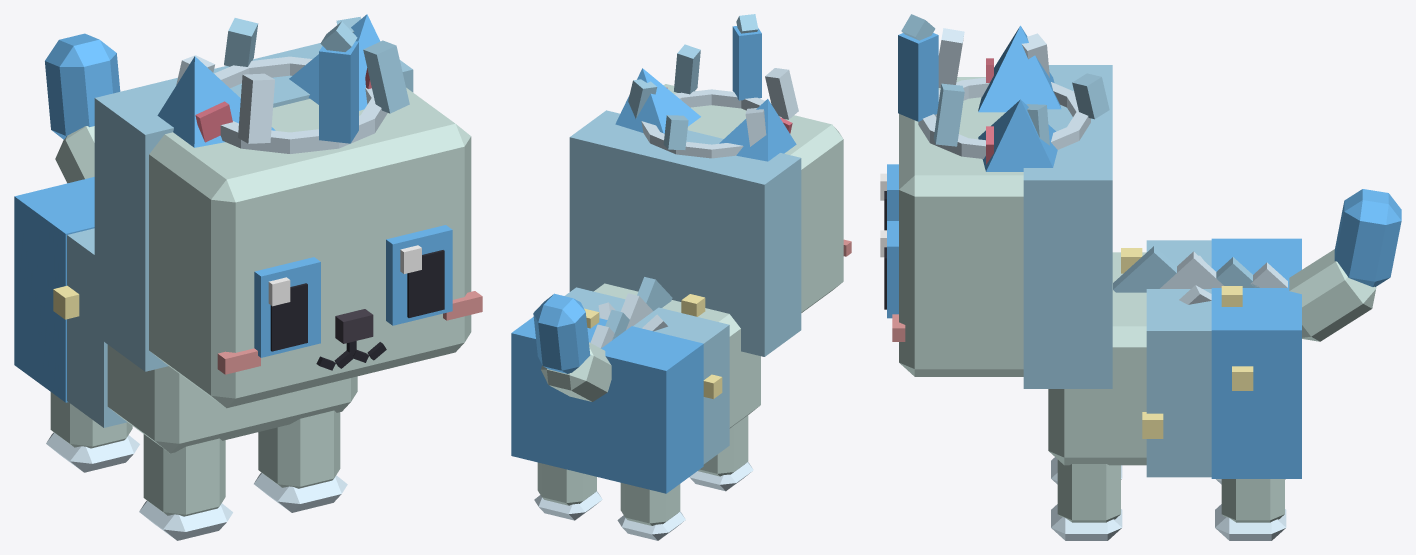
The model's file is CatCafe_Cat_Ice.fbx.
3 renders of one model, left to right at view 1: azimuth 30°, elevation 25°; view 2: azimuth 150°, elevation 25°; view 3: azimuth 270°, elevation 25°, orthographic. The views are drawn at different scales.
Parts seen in each view (by area): view 1: CatCafe_Cat_Ice_Head, CatCafe_Cat_Ice_Body, CatCafe_Cat_Ice_Prop2, CatCafe_Cat_Ice_LegF2, CatCafe_Cat_Ice_Tail, CatCafe_Cat_Ice_LegF1, CatCafe_Cat_Ice_Eye1, CatCafe_Cat_Ice_Eye2, CatCafe_Cat_Ice_EarR, CatCafe_Cat_Ice_Crown_Glow, CatCafe_Cat_Ice_LegB2, CatCafe_Cat_Ice_EarL; view 2: CatCafe_Cat_Ice_Head, CatCafe_Cat_Ice_Body, CatCafe_Cat_Ice_Prop2, CatCafe_Cat_Ice_Tail, CatCafe_Cat_Ice_LegB2, CatCafe_Cat_Ice_LegB1, CatCafe_Cat_Ice_Prop, CatCafe_Cat_Ice_Crown_Glow, CatCafe_Cat_Ice_LegF2, CatCafe_Cat_Ice_EarL, CatCafe_Cat_Ice_EarR; view 3: CatCafe_Cat_Ice_Head, CatCafe_Cat_Ice_Body, CatCafe_Cat_Ice_Tail, CatCafe_Cat_Ice_Prop2, CatCafe_Cat_Ice_LegF1, CatCafe_Cat_Ice_Prop, CatCafe_Cat_Ice_LegB1, CatCafe_Cat_Ice_Crown_Glow, CatCafe_Cat_Ice_EarR, CatCafe_Cat_Ice_EarL, CatCafe_Cat_Ice_Eye1, CatCafe_Cat_Ice_Eye2.
Part boxes in pixels (<box>): CatCafe_Cat_Ice_Head: <box>94,43,482,408</box>; CatCafe_Cat_Ice_Body: <box>14,177,357,453</box>; CatCafe_Cat_Ice_Prop2: <box>176,16,409,153</box>; CatCafe_Cat_Ice_LegF2: <box>139,434,232,540</box>; CatCafe_Cat_Ice_Tail: <box>45,33,120,183</box>; CatCafe_Cat_Ice_LegF1: <box>254,410,347,512</box>; CatCafe_Cat_Ice_Eye1: <box>386,225,452,325</box>; CatCafe_Cat_Ice_Eye2: <box>254,257,320,357</box>; CatCafe_Cat_Ice_EarR: <box>157,56,275,147</box>; CatCafe_Cat_Ice_Crown_Glow: <box>319,21,358,143</box>; CatCafe_Cat_Ice_LegB2: <box>46,392,139,472</box>; CatCafe_Cat_Ice_EarL: <box>289,14,380,110</box>; CatCafe_Cat_Ice_Head: <box>569,84,851,356</box>; CatCafe_Cat_Ice_Body: <box>511,283,760,493</box>; CatCafe_Cat_Ice_Prop2: <box>628,44,798,158</box>; CatCafe_Cat_Ice_Tail: <box>533,293,611,401</box>; CatCafe_Cat_Ice_LegB2: <box>617,483,685,540</box>; CatCafe_Cat_Ice_LegB1: <box>534,462,602,520</box>; CatCafe_Cat_Ice_Prop: <box>590,277,672,348</box>; CatCafe_Cat_Ice_Crown_Glow: <box>732,14,761,100</box>; CatCafe_Cat_Ice_LegF2: <box>689,415,753,491</box>; CatCafe_Cat_Ice_EarL: <box>615,68,700,133</box>; CatCafe_Cat_Ice_EarR: <box>719,99,796,161</box>; CatCafe_Cat_Ice_Head: <box>892,65,1112,388</box>; CatCafe_Cat_Ice_Body: <box>1048,238,1301,478</box>; CatCafe_Cat_Ice_Tail: <box>1289,189,1401,341</box>; CatCafe_Cat_Ice_Prop2: <box>918,28,1109,158</box>; CatCafe_Cat_Ice_LegF1: <box>1051,460,1122,540</box>; CatCafe_Cat_Ice_Prop: <box>1113,246,1287,304</box>; CatCafe_Cat_Ice_LegB1: <box>1215,479,1286,540</box>; CatCafe_Cat_Ice_Crown_Glow: <box>898,14,938,121</box>; CatCafe_Cat_Ice_EarR: <box>978,25,1061,112</box>; CatCafe_Cat_Ice_EarL: <box>978,99,1057,171</box>; CatCafe_Cat_Ice_Eye1: <box>880,221,898,318</box>; CatCafe_Cat_Ice_Eye2: <box>880,164,898,230</box>.
Bounding box in the file's own units: 1.03 × 2.05 × 1.97.
Materials: 1 (1 with a texture image).
